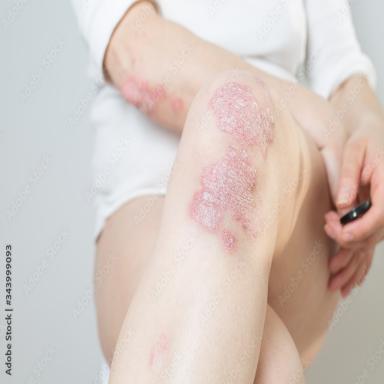Psoriasis: (190, 83, 274, 235), (121, 75, 165, 115), (221, 231, 235, 251), (171, 98, 184, 110)
